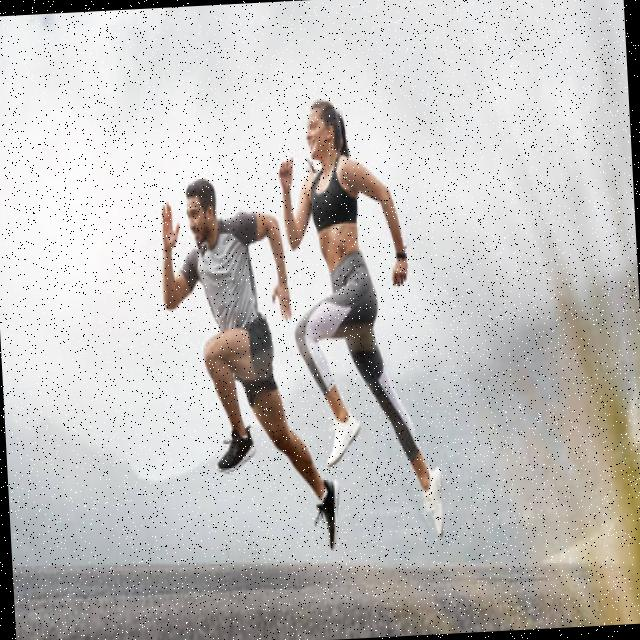Person: (276, 94, 446, 546), (158, 170, 344, 556)
